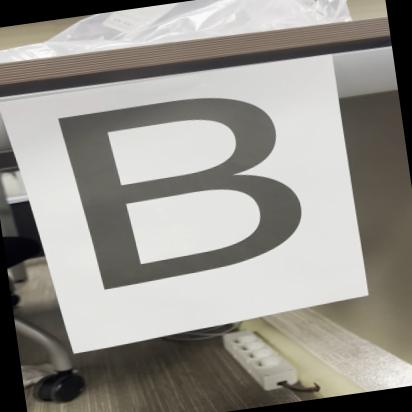seat: (21, 75, 323, 306)
